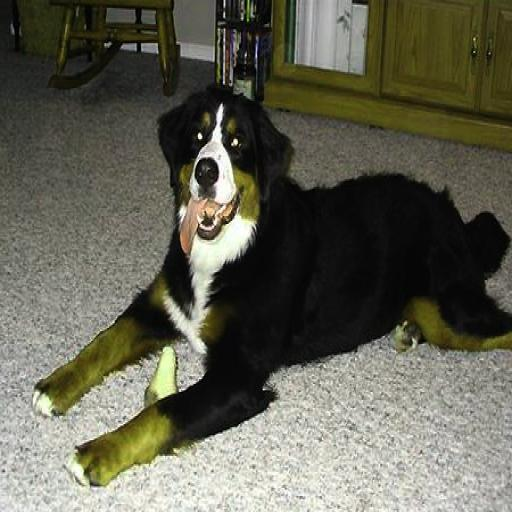dog_face: (158, 94, 299, 240)
